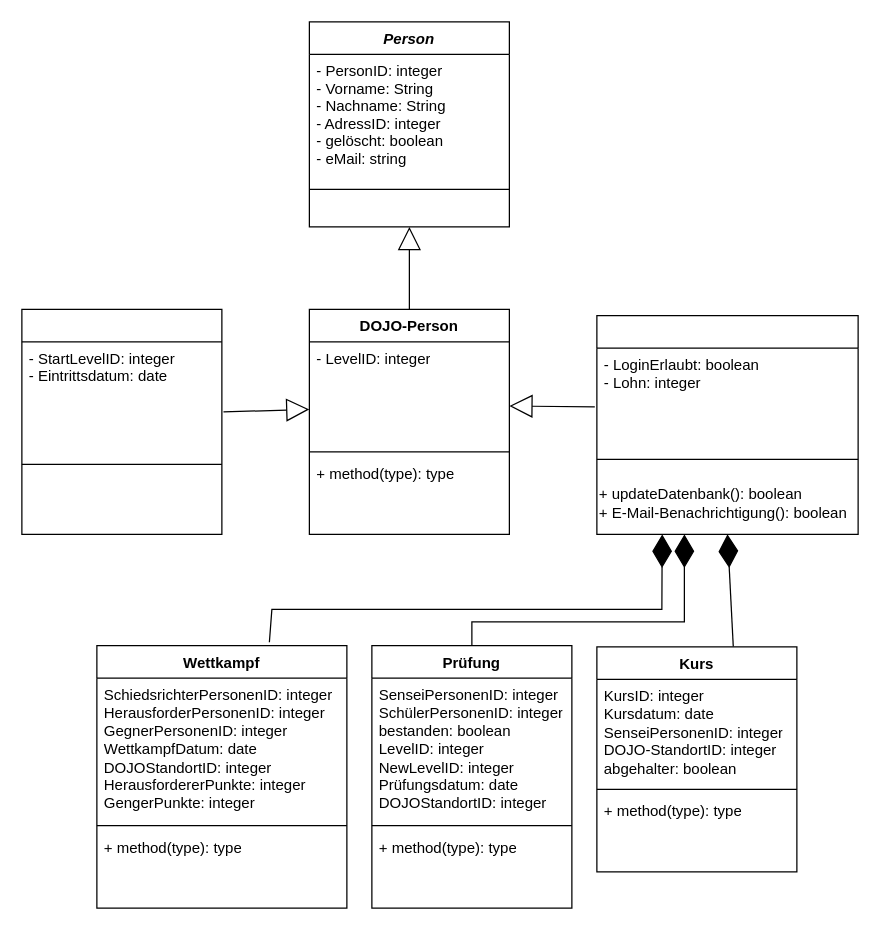
Some shapes in this 880 by 934 pixel diagram are drawn without their labels. Here are the shapes that lost their labels. From the top down, the box of each, then its label:
(21, 308, 222, 534): Schüler
(596, 314, 858, 534): Sensei
